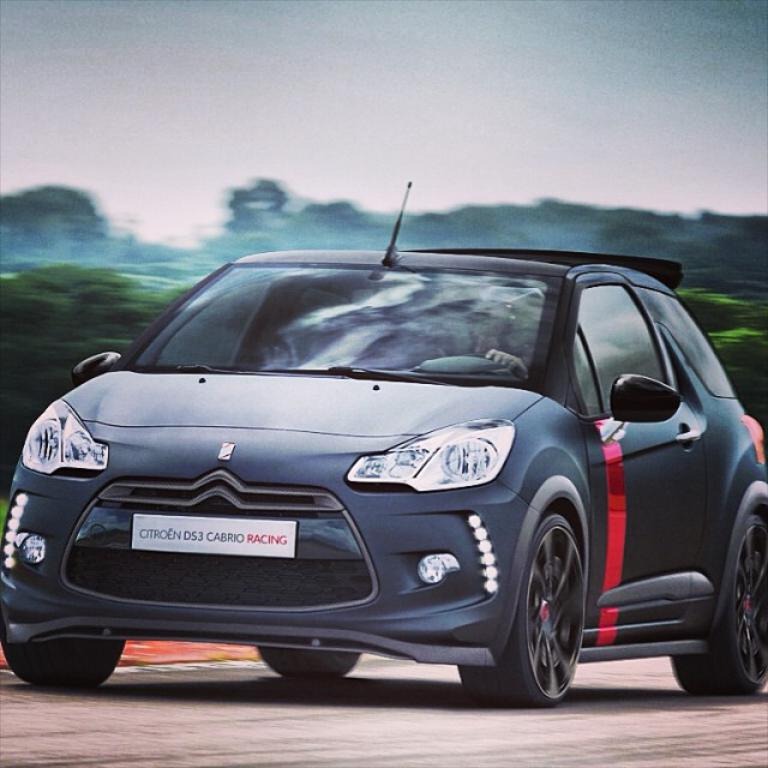Car: (0, 181, 768, 707)
